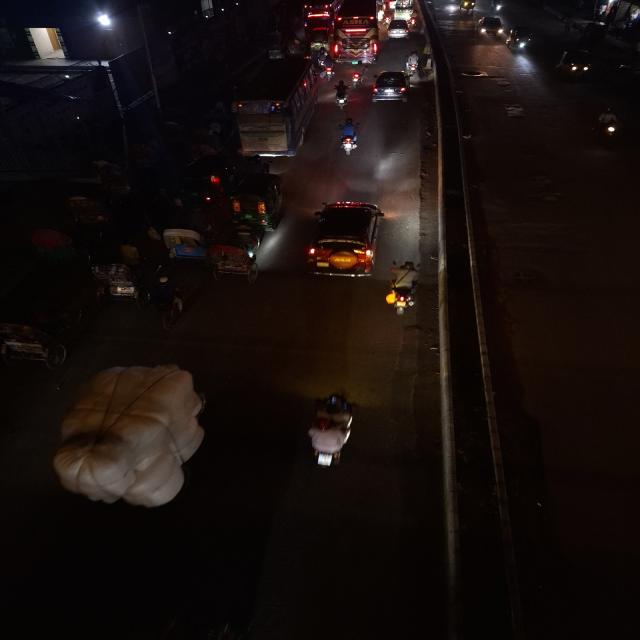bus: (227, 52, 320, 162), (334, 0, 381, 66)
car: (304, 198, 389, 282), (370, 69, 413, 105), (476, 14, 505, 41), (386, 18, 411, 42)
cng: (304, 198, 388, 282), (227, 170, 288, 232), (554, 46, 598, 83), (504, 24, 536, 56), (309, 21, 329, 53), (461, 0, 478, 16)
motorcycle: (299, 384, 366, 476), (384, 257, 426, 320), (332, 117, 362, 159), (593, 107, 622, 145), (332, 80, 352, 112), (404, 49, 423, 77), (320, 50, 335, 80), (348, 66, 365, 89), (489, 0, 505, 14)
rickshaw: (80, 256, 151, 308), (201, 240, 265, 284), (24, 227, 85, 268), (156, 226, 207, 266), (94, 159, 137, 203), (62, 194, 112, 230)
